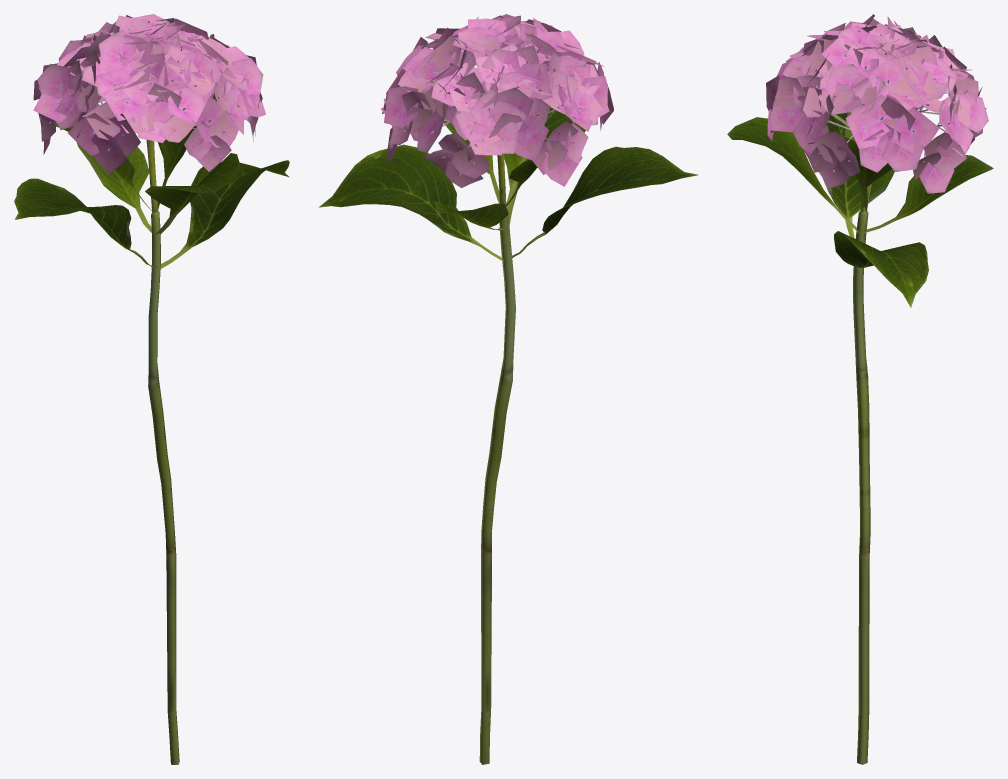
The model's file is Hydrangea_OG_long_pink.glb.
3 views of the same model, side by side, from view 1: azimuth 30°, elevation 25°; view 2: azimuth 150°, elevation 25°; view 3: azimuth 270°, elevation 25° (orthographic). The views are drawn at different scales.
Visible parts, largest first — view 1: Hydrangea; view 2: Hydrangea; view 3: Hydrangea.
Part boxes in pixels (x1,y1,x2,y2): Hydrangea: [14, 14, 289, 764]; Hydrangea: [318, 14, 698, 764]; Hydrangea: [727, 14, 993, 764].
Bounding box in the file's own units: 1.38 × 2.99 × 1.
1 material, 1 textured.
